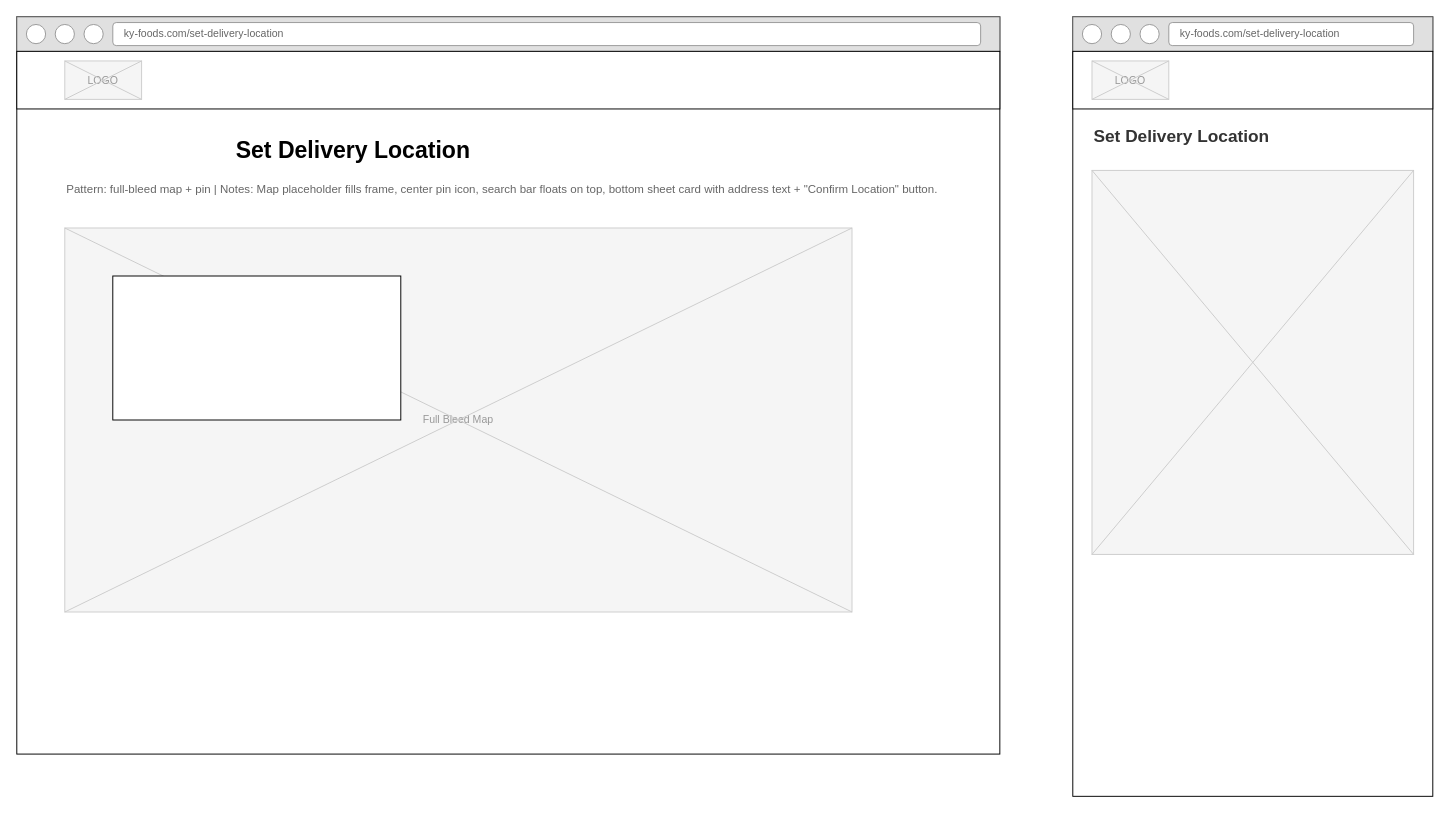
This 1450x813 diagram has some shape labels left out. Here are the shapes that lost their labels. From the top down, the centre of each, then its label:
At point 256,347: "Delivery Info".
At point 1252,361: "Wireframe Placeholder".
